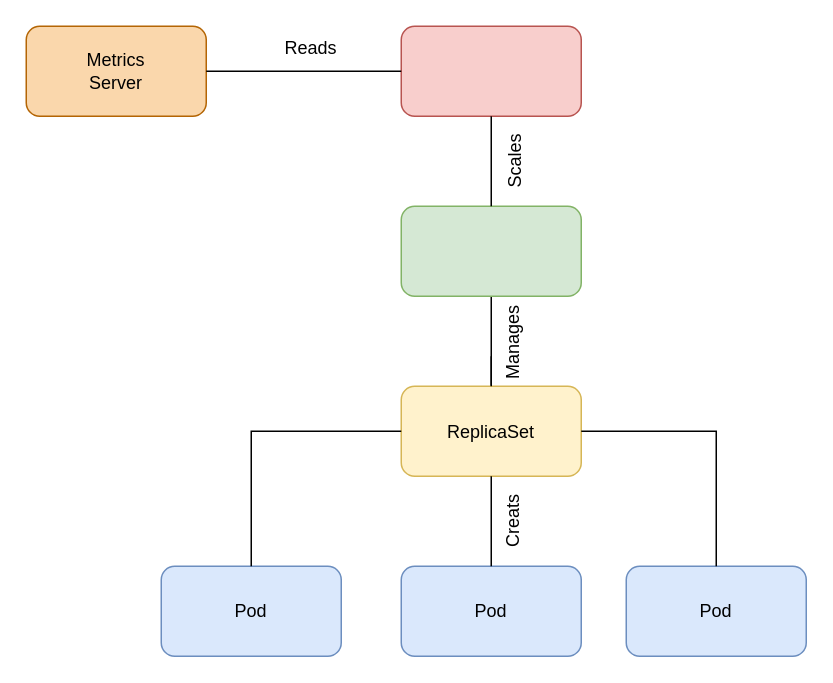
Image size: 833x683. Some labels were removed from this diagram. The shapes that lost their labels are listed below. From the top down, each one's box as (x1, y1, x2, y2) in pixels, then its label:
(400, 25, 581, 116): Horizontal Pod Autoscaling
(400, 205, 581, 296): Deployment
